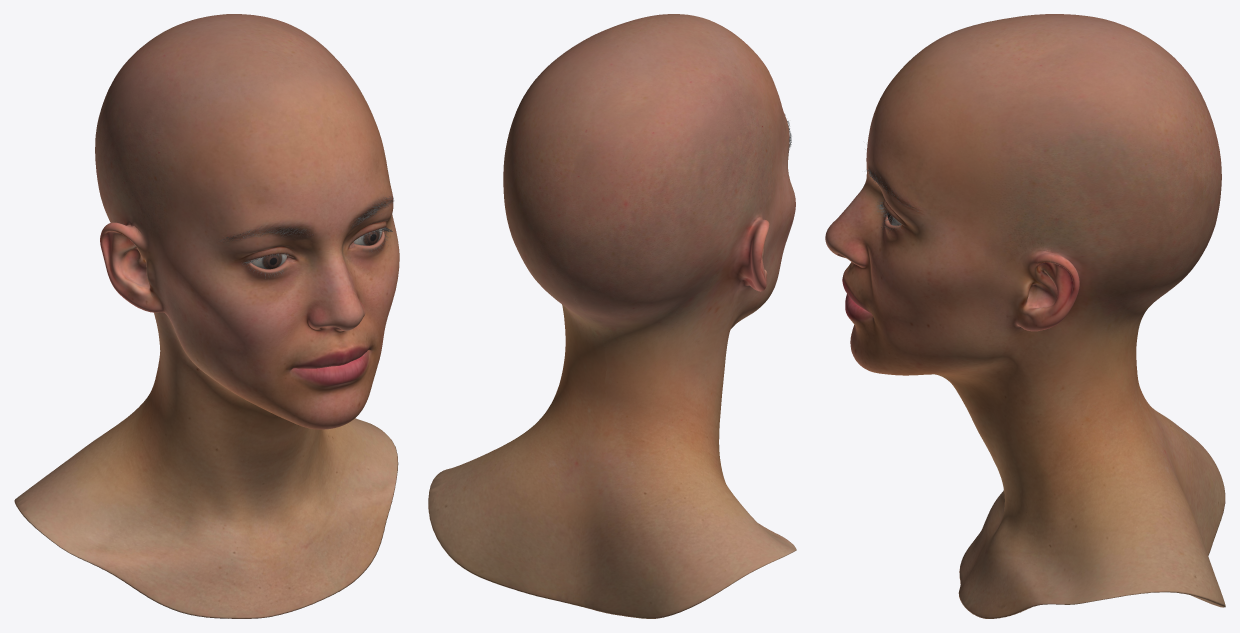
File: head.glb
3 renders of one model, left to right at view 1: azimuth 30°, elevation 25°; view 2: azimuth 150°, elevation 25°; view 3: azimuth 270°, elevation 25°, orthographic. The views are drawn at different scales.
Visible parts, largest first — view 1: Head, Brows; view 2: Head; view 3: Head.
Part boxes in pixels (x1,y1,x2,y2): Head: (14,14,399,618); Brows: (220,196,394,242); Head: (428,14,796,618); Head: (825,14,1225,618).
Size of the model in its own units: 22.99 by 33.75 by 21.83.
Materials: 5 (2 with a texture image).
